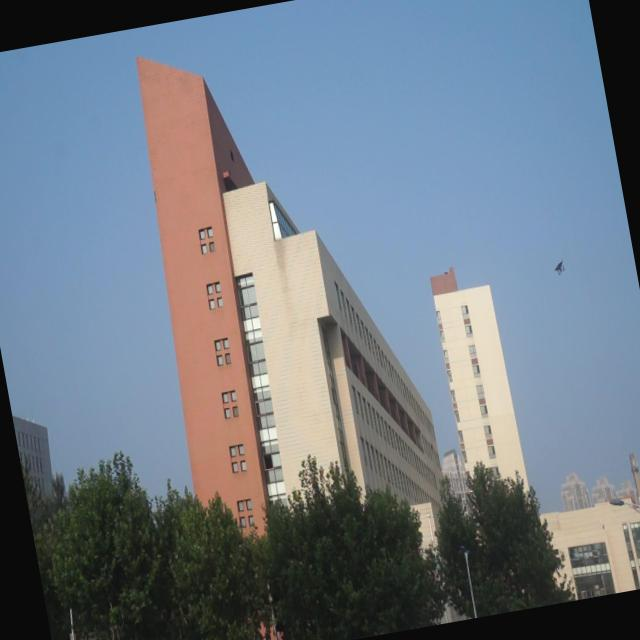drone: (552, 254, 568, 278)
